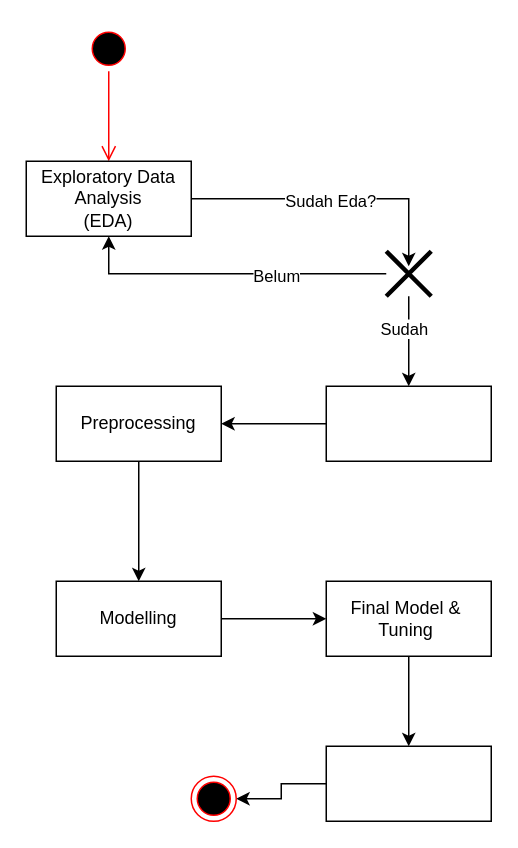
This 518x848 diagram has some shape labels left out. The centre of each missing label's shape, as x and y in pixels:
Data Visualization: the point at 408,423
Model Inference: the point at 408,783
